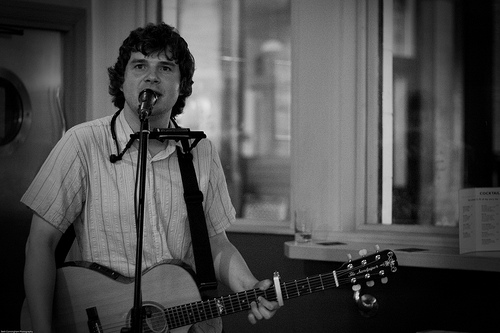guitar: (16, 244, 401, 333)
